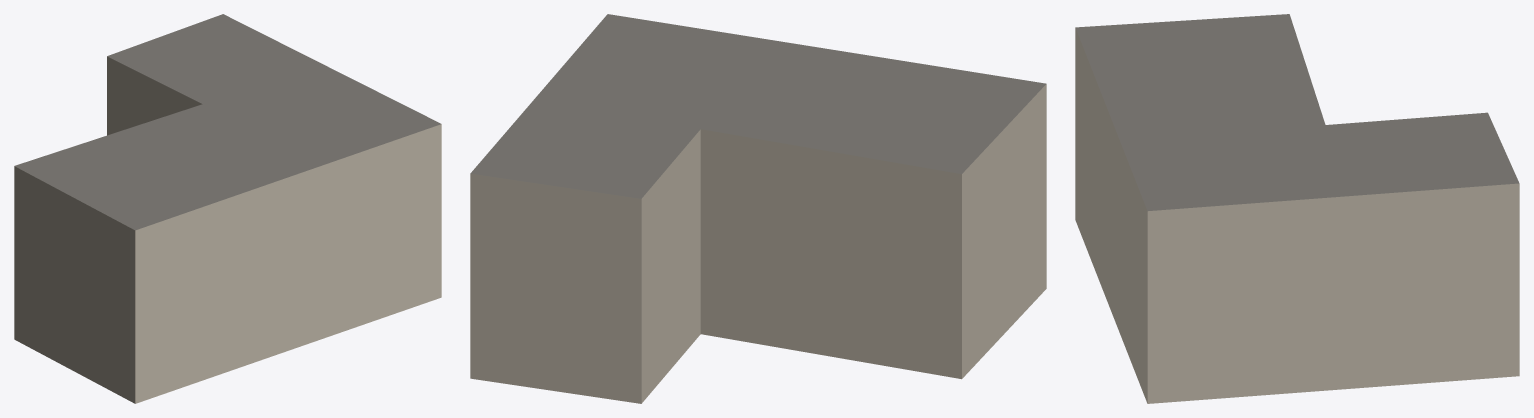
3 views of the same model, side by side, from view 1: azimuth 30°, elevation 25°; view 2: azimuth 150°, elevation 25°; view 3: azimuth 270°, elevation 25° (orthographic). The views are drawn at different scales.
Visible parts, largest first — view 1: HP-w505646907; view 2: HP-w505646907; view 3: HP-w505646907.
Boxes of the visible parts, x1=… form: HP-w505646907: x1=14, y1=14, x2=441, y2=403; HP-w505646907: x1=470, y1=14, x2=1046, y2=403; HP-w505646907: x1=1075, y1=14, x2=1519, y2=403.
Bounding box in the file's own units: 26.33 × 12 × 25.06.
